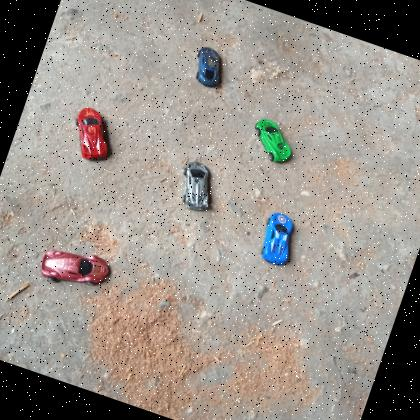Car: (35, 238, 115, 300), (64, 103, 120, 166), (252, 206, 304, 270), (170, 156, 222, 217), (245, 115, 302, 169), (187, 42, 229, 92)
